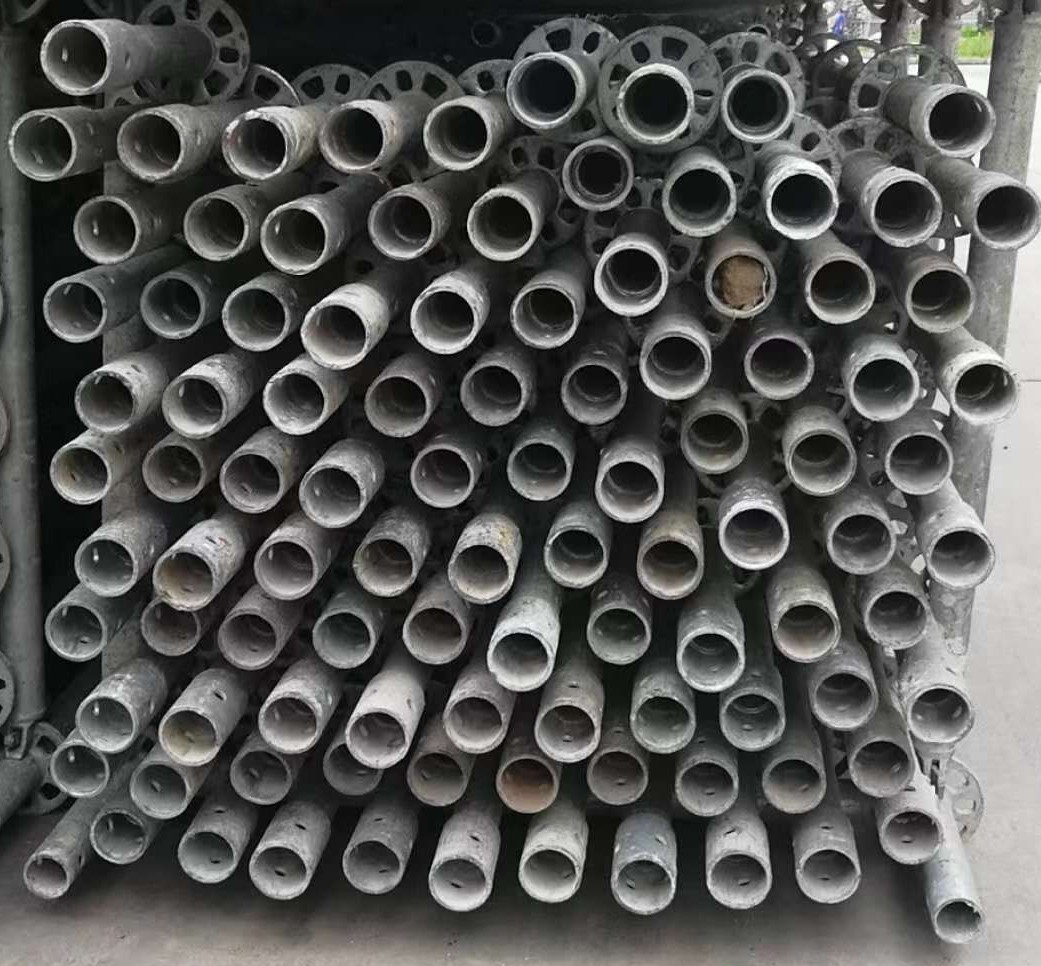blocked_circle_steel: (700, 244, 782, 320)
circle_steel: (503, 50, 590, 134), (36, 15, 120, 98), (418, 93, 498, 179), (613, 64, 697, 145), (867, 167, 945, 253), (714, 66, 798, 145), (764, 161, 842, 243), (218, 104, 295, 187), (561, 136, 639, 214), (257, 201, 334, 278), (464, 189, 542, 264), (68, 193, 146, 268), (7, 107, 78, 189), (220, 280, 293, 358), (112, 109, 187, 184), (846, 351, 922, 425), (923, 86, 1000, 159), (968, 176, 1041, 253), (405, 285, 482, 358), (593, 241, 667, 314), (804, 254, 877, 328), (662, 165, 736, 237), (179, 190, 251, 264), (783, 427, 858, 498), (638, 332, 714, 402), (507, 282, 584, 351), (905, 264, 978, 336), (824, 510, 898, 581), (295, 462, 370, 532), (925, 522, 1000, 592), (298, 299, 371, 370), (320, 101, 389, 176), (366, 189, 438, 260), (743, 330, 814, 402), (135, 271, 207, 341), (68, 366, 140, 436), (679, 404, 751, 474), (900, 683, 977, 748), (40, 275, 109, 347), (40, 595, 109, 667), (719, 504, 792, 572), (768, 598, 842, 665), (160, 370, 230, 440), (882, 431, 956, 497), (443, 541, 517, 607), (483, 628, 558, 692), (217, 447, 286, 516), (139, 439, 209, 507), (70, 690, 141, 757), (255, 690, 325, 757), (673, 628, 745, 693), (407, 445, 477, 511), (457, 362, 528, 427), (591, 458, 662, 523), (701, 847, 773, 911), (503, 440, 576, 503), (531, 703, 604, 766), (71, 530, 138, 598), (441, 690, 508, 758), (809, 669, 879, 734), (46, 443, 117, 507), (634, 536, 705, 600), (307, 611, 380, 673), (560, 360, 628, 426), (215, 606, 283, 672), (259, 372, 328, 437), (363, 375, 432, 440), (949, 360, 1018, 425), (542, 526, 611, 591), (717, 689, 785, 754), (150, 549, 220, 612), (340, 710, 412, 771), (253, 536, 319, 602), (795, 840, 862, 905), (627, 692, 695, 756), (354, 533, 420, 598), (584, 605, 652, 667), (156, 707, 224, 769), (246, 840, 311, 904), (674, 755, 739, 819), (865, 589, 932, 651), (45, 742, 113, 803), (761, 751, 825, 813), (425, 856, 495, 912), (612, 856, 675, 918), (496, 754, 560, 815), (228, 748, 294, 807), (517, 847, 583, 905), (136, 602, 203, 659), (851, 738, 914, 798), (400, 606, 465, 664), (340, 838, 404, 896), (880, 808, 944, 866), (406, 752, 470, 809), (129, 760, 189, 819), (86, 810, 150, 865), (175, 829, 236, 885), (586, 750, 646, 806), (323, 747, 383, 800), (929, 896, 985, 944), (21, 852, 73, 901)
